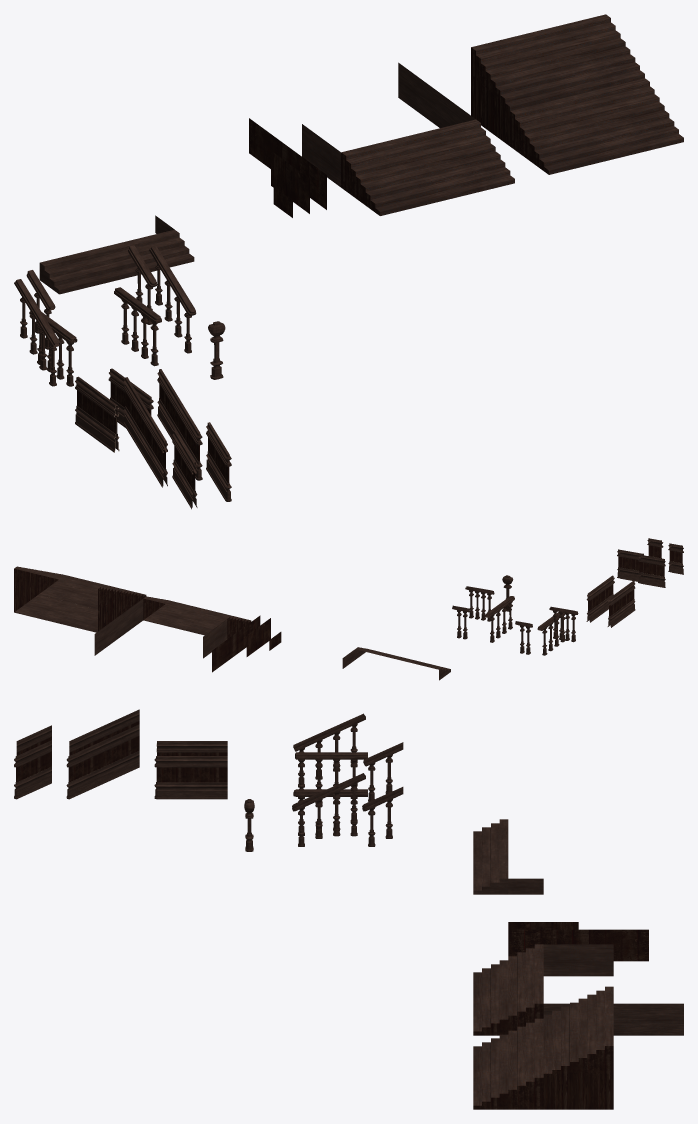
Rendered from stairs_SF.fbx.
3 renders of one model, top to bottom at view 1: azimuth 30°, elevation 25°; view 2: azimuth 150°, elevation 25°; view 3: azimuth 270°, elevation 25°, orthographic. The views are drawn at different scales.
Parts seen in each view (by area): view 1: SM_Stairs_2x4_B_1, SM_Stairs_1x4_B_1, SM_Stairs_1_2X4_B_1, SM_Corrimão_Inc_Mid_B_1, SM_Stairs_CloseSide_2x4_A_1, SM_Corrimão_Mid_B_1, SM_Stairs_CloseSide_2x4_B_1, SM_Corrimão_Inc_B_1, SM_Corrimão_Inc_A_1, SM_Corrimão_Mid_Inc_A_1, SM_Corrimão_A_1, SM_Stairs_CloseSide_1x4_B_1 (+6 smaller); view 2: SM_Stairs_2x4_B_1, SM_Stairs_1x4_B_1, SM_Stairs_CloseSide_2x4_A_1, SM_Stairs_CloseSide_2x4_B_1, SM_Corrimão_Mid_B_1, SM_Corrimão_Inc_Mid_B_1, SM_Corrimão_B_1, SM_Corrimão_Inc_B_1, SM_Corrimão_A_1, SM_Stairs_CloseSide_1x4_B_1, SM_Corrimão_Mid_Inc_A_1, SM_Stairs_CloseSide_1x4_A_1 (+7 smaller); view 3: SM_Stairs_2x4_B_1, SM_Stairs_1x4_B_1, SM_Corrimão_B_1, SM_Corrimão_Inc_B_1, SM_Stairs_CloseSide_2x4_B_1, SM_Stairs_CloseSide_2x4_A_1, SM_Stairs_1_2X4_B_1, SM_Stairs_CloseSide_1x4_A_1, SM_Corrimão_Inc_1_2_B_1, SM_Corrimão_Inc_A_1, SM_Corrimão_Mid_A_1, SM_Corrimão_Inc_Mid_B_1 (+6 smaller).
Boxes of the visible parts, x1,y1,x2,y2 form: SM_Stairs_2x4_B_1: (471,14,683,174); SM_Stairs_1x4_B_1: (341,119,514,215); SM_Stairs_1_2X4_B_1: (39,229,194,294); SM_Corrimão_Inc_Mid_B_1: (123,377,167,487); SM_Stairs_CloseSide_2x4_A_1: (398,62,475,127); SM_Corrimão_Mid_B_1: (75,376,119,452); SM_Stairs_CloseSide_2x4_B_1: (249,118,326,209); SM_Corrimão_Inc_B_1: (157,369,202,480); SM_Corrimão_Inc_A_1: (149,246,196,353); SM_Corrimão_Mid_Inc_A_1: (14,279,60,386); SM_Corrimão_A_1: (114,287,161,366); SM_Stairs_CloseSide_1x4_B_1: (271,151,309,213); SM_Stairs_2x4_B_1: (14,566,146,632); SM_Stairs_1x4_B_1: (143,596,251,638); SM_Stairs_CloseSide_2x4_A_1: (94,599,143,655); SM_Stairs_CloseSide_2x4_B_1: (212,615,260,672); SM_Corrimão_Mid_B_1: (607,581,635,627); SM_Corrimão_Inc_Mid_B_1: (638,554,665,587); SM_Corrimão_B_1: (586,575,614,622); SM_Corrimão_Inc_B_1: (617,549,643,581); SM_Corrimão_A_1: (485,596,514,642); SM_Stairs_CloseSide_1x4_B_1: (246,618,270,656); SM_Corrimão_Mid_Inc_A_1: (549,606,578,642); SM_Stairs_CloseSide_1x4_A_1: (203,619,227,658); SM_Stairs_2x4_B_1: (473,986,613,1109); SM_Stairs_1x4_B_1: (473,944,543,1035); SM_Corrimão_B_1: (154,756,227,799); SM_Corrimão_Inc_B_1: (66,724,139,799); SM_Stairs_CloseSide_2x4_B_1: (508,929,648,961); SM_Stairs_CloseSide_2x4_A_1: (543,1003,683,1035); SM_Stairs_1_2X4_B_1: (473,819,508,894); SM_Stairs_CloseSide_1x4_A_1: (543,944,613,976); SM_Corrimão_Inc_1_2_B_1: (14,740,51,799); SM_Corrimão_Inc_A_1: (292,773,365,846); SM_Corrimão_Mid_A_1: (295,752,367,798); SM_Corrimão_Inc_Mid_B_1: (69,709,139,755).
Bounding box in the file's own units: 2208 × 239 × 1908.
